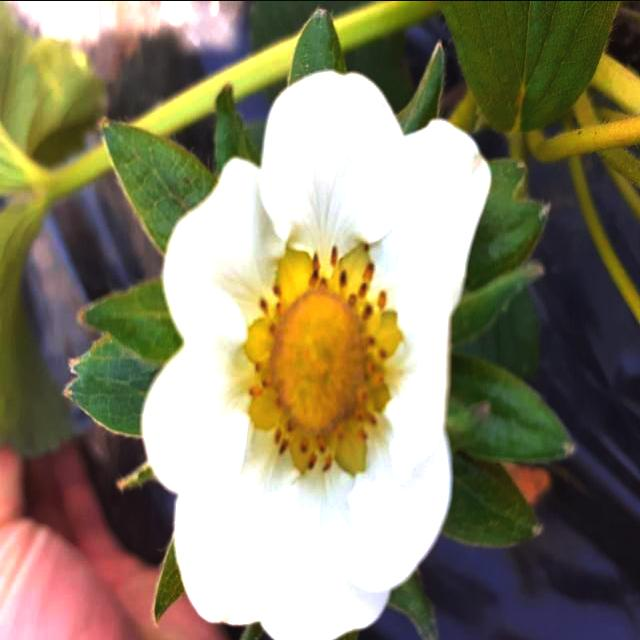flower: (132, 79, 497, 632)
